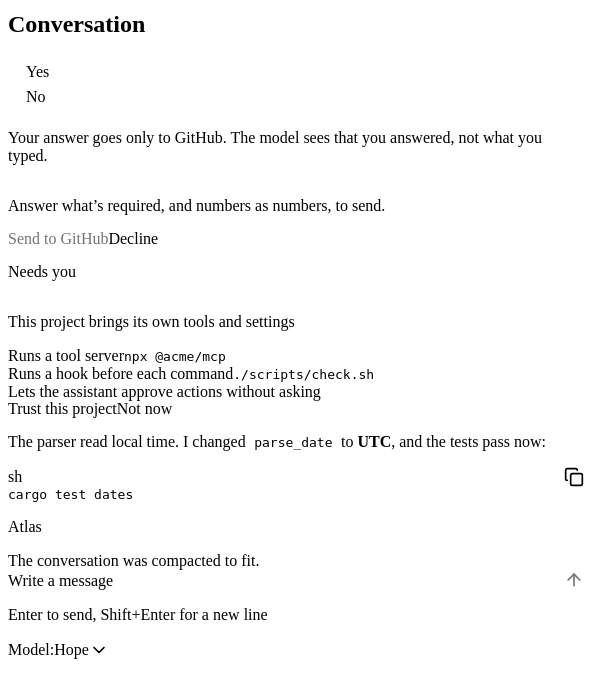
it: ShowcaseAiComponent › sends from the composer and streams a reply, which can be stopped
(page scrolled)
Type "Hello" into the text box with test id "showcase-composer-input".
click(286, 581); type("Hello")  # box left=8, top=572, right=564, bottom=590
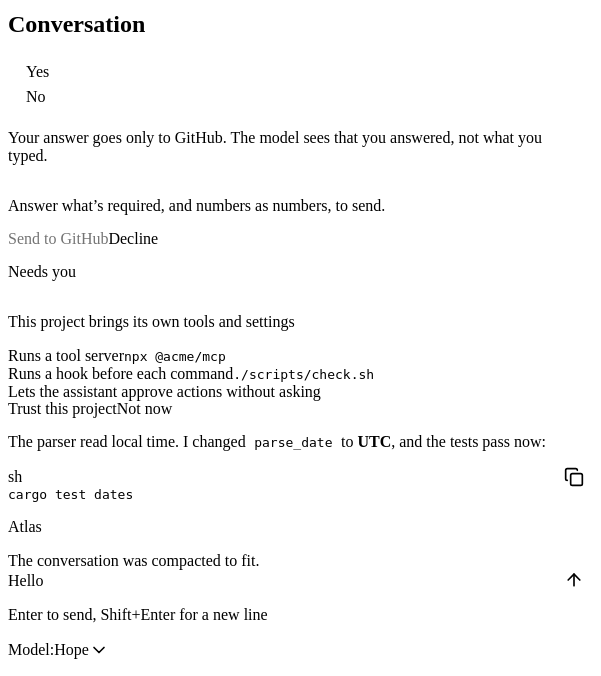
Click the button with test id "showcase-composer-send".
click(574, 580)  # box left=564, top=570, right=584, bottom=590
Wait 160 ms
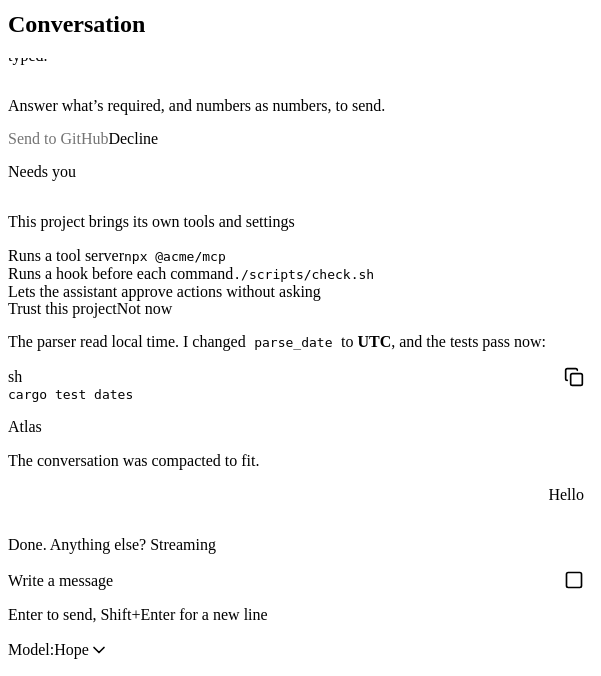
Expected: the number of elements with test id "showcase-message" is 2, left=548, top=486, right=584, bottom=503; left=8, top=536, right=216, bottom=553
Expected: the text "Hello" is shown, left=548, top=486, right=584, bottom=504
Expected: the button with test id "showcase-composer-stop" is shown
Click the button with test id "showcase-composer-stop".
click(574, 580)  # box left=564, top=570, right=584, bottom=590
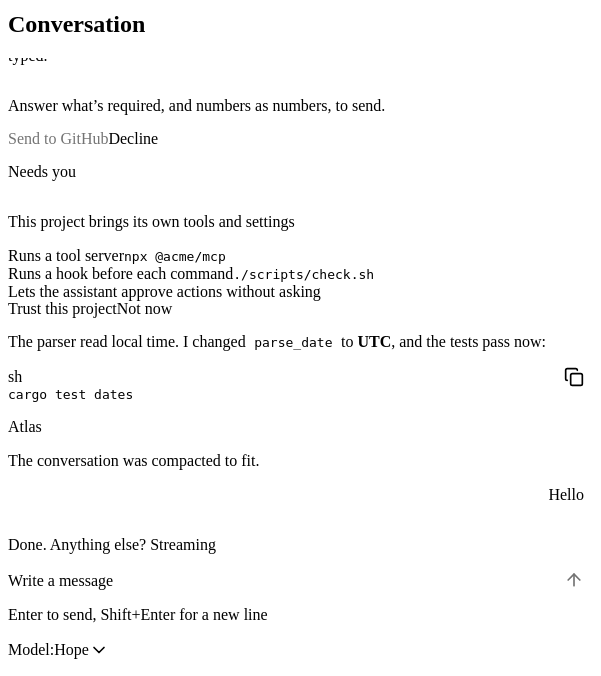
Expected: the button with test id "showcase-composer-send" is shown, left=564, top=570, right=584, bottom=590
